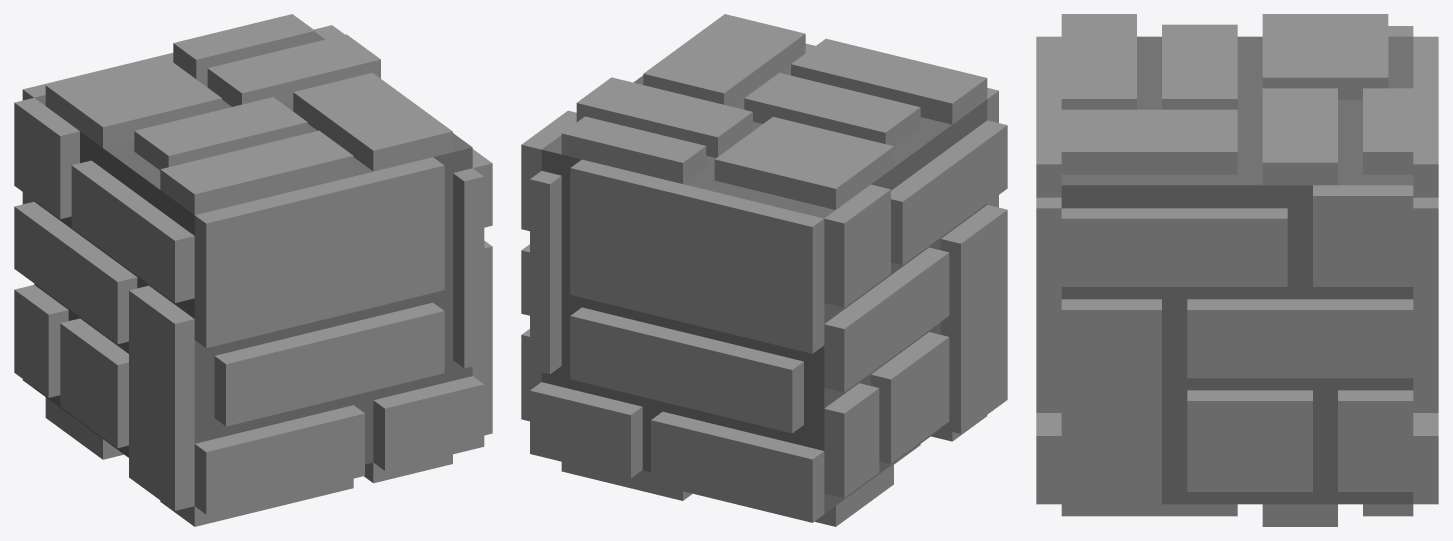
The model's file is stoneBrick.gltf.
3 renders of one model, left to right at view 1: azimuth 30°, elevation 25°; view 2: azimuth 150°, elevation 25°; view 3: azimuth 270°, elevation 25°, orthographic. The views are drawn at different scales.
Visible parts, largest first — view 1: cuboid; view 2: cuboid; view 3: cuboid.
Boxes of the visible parts, <box> form: cuboid: <box>14,14,492,526</box>; cuboid: <box>521,14,1007,526</box>; cuboid: <box>1036,14,1438,526</box>.
Bounding box in the file's own units: 1 × 1 × 1.
3 materials, 2 textured.
